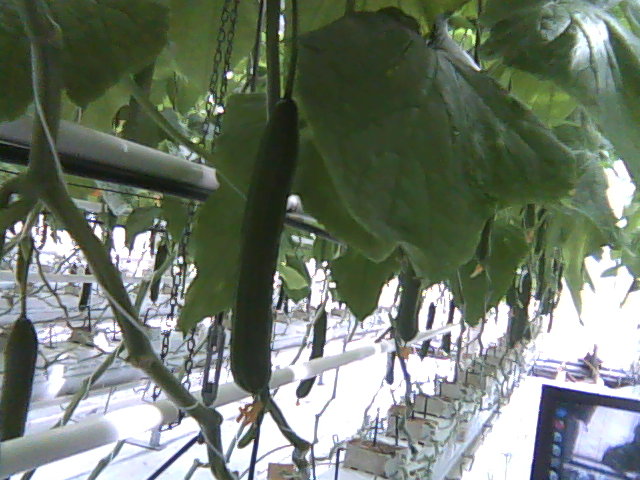concombre: (227, 97, 305, 431)
